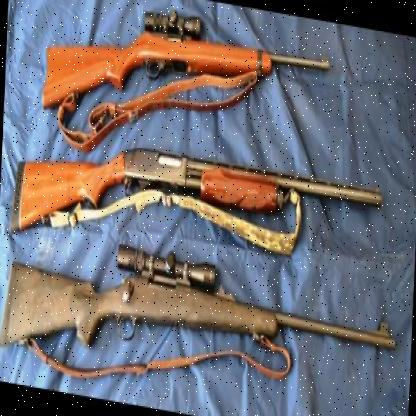rifle: (0, 220, 396, 416), (4, 121, 388, 288), (43, 0, 332, 162)
